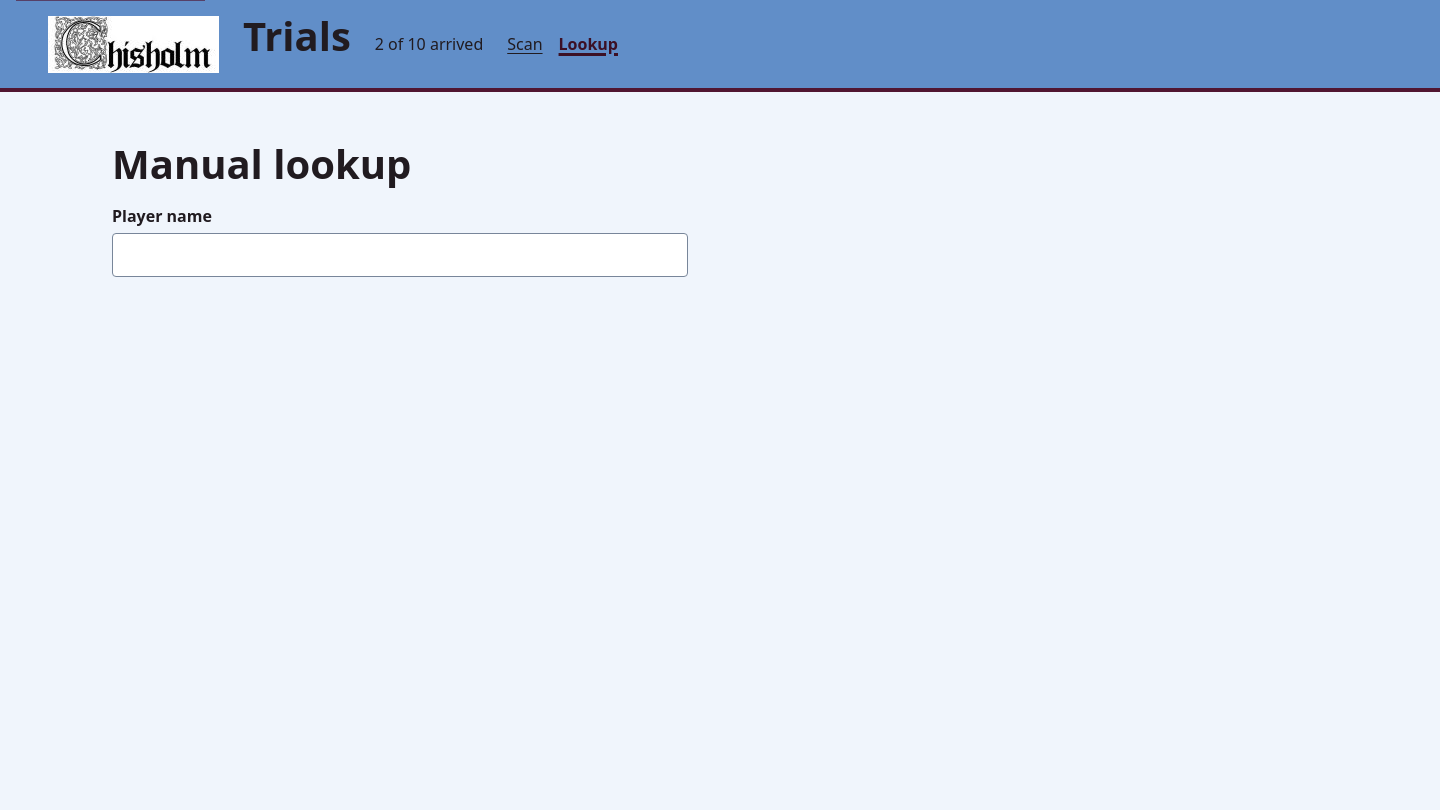
it: keeps lookup usable when undo returns registration-not-found, not session-invalid
Expected: the text "2 of 10 arrived" is shown, [375,32,483,56]
In the field labelled "Player name": (400, 255) [112,233,688,277], type "Player"
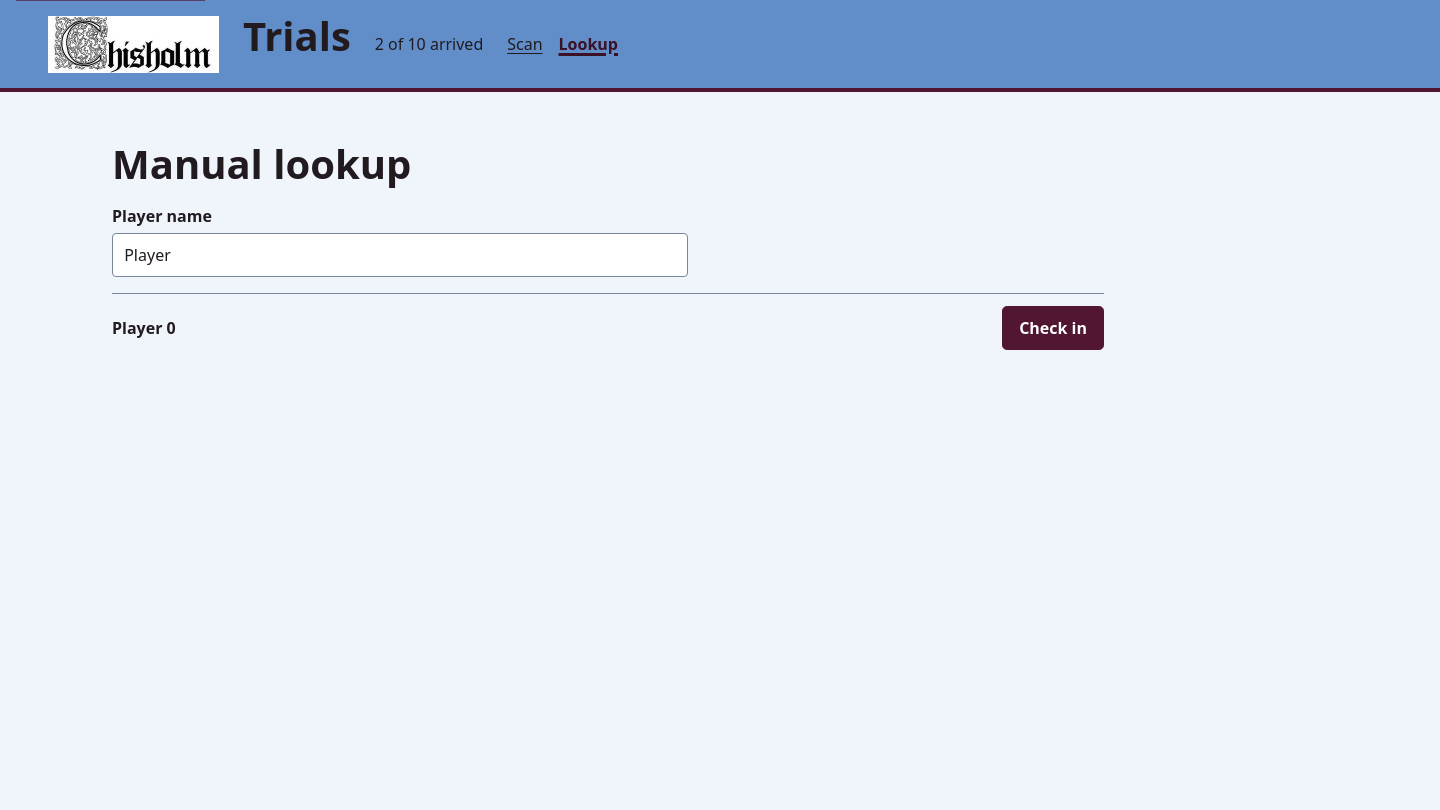
Click the button "Check in": (1053, 328) [1002,306,1104,350]
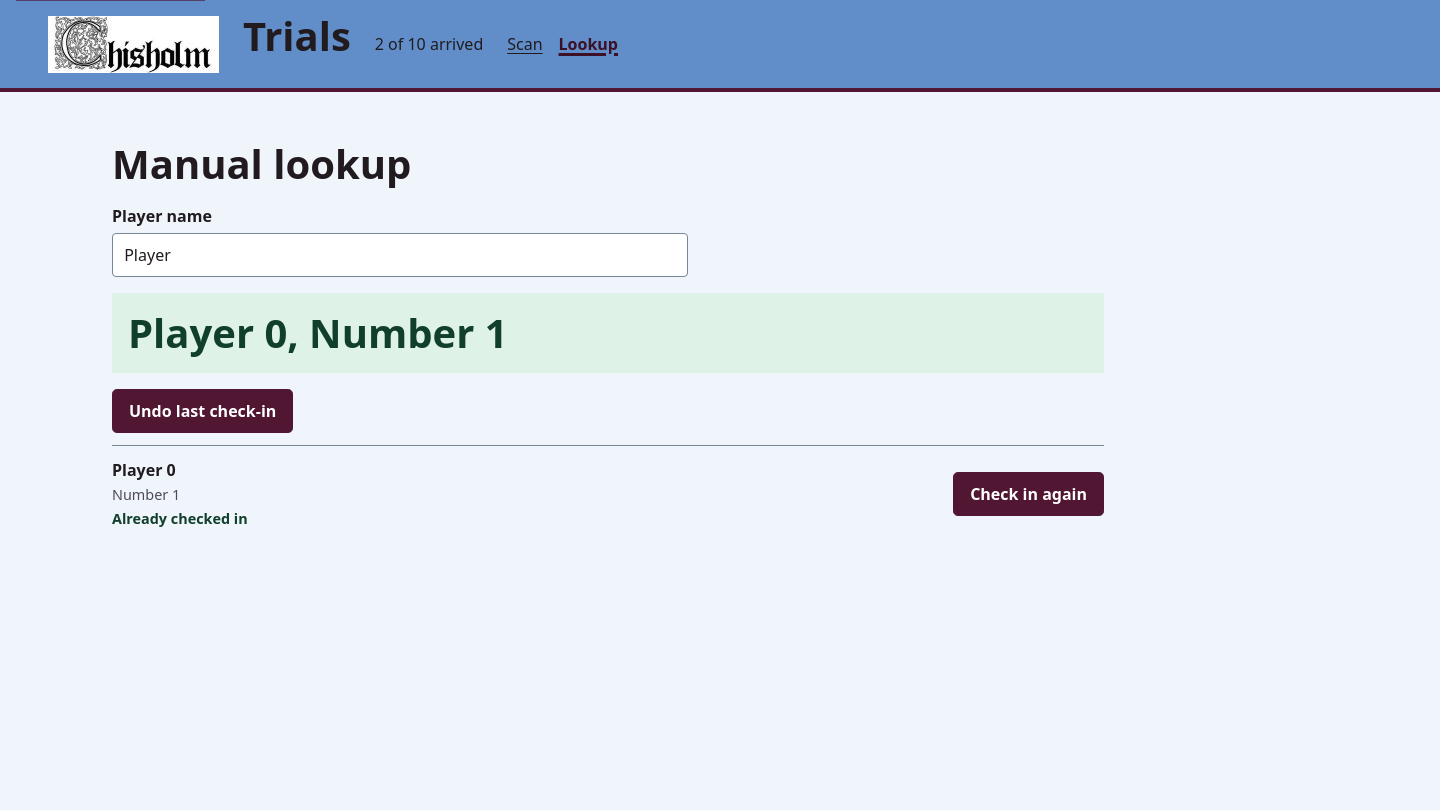
Click the button "Undo last check-in": (203, 411) [112,389,293,433]
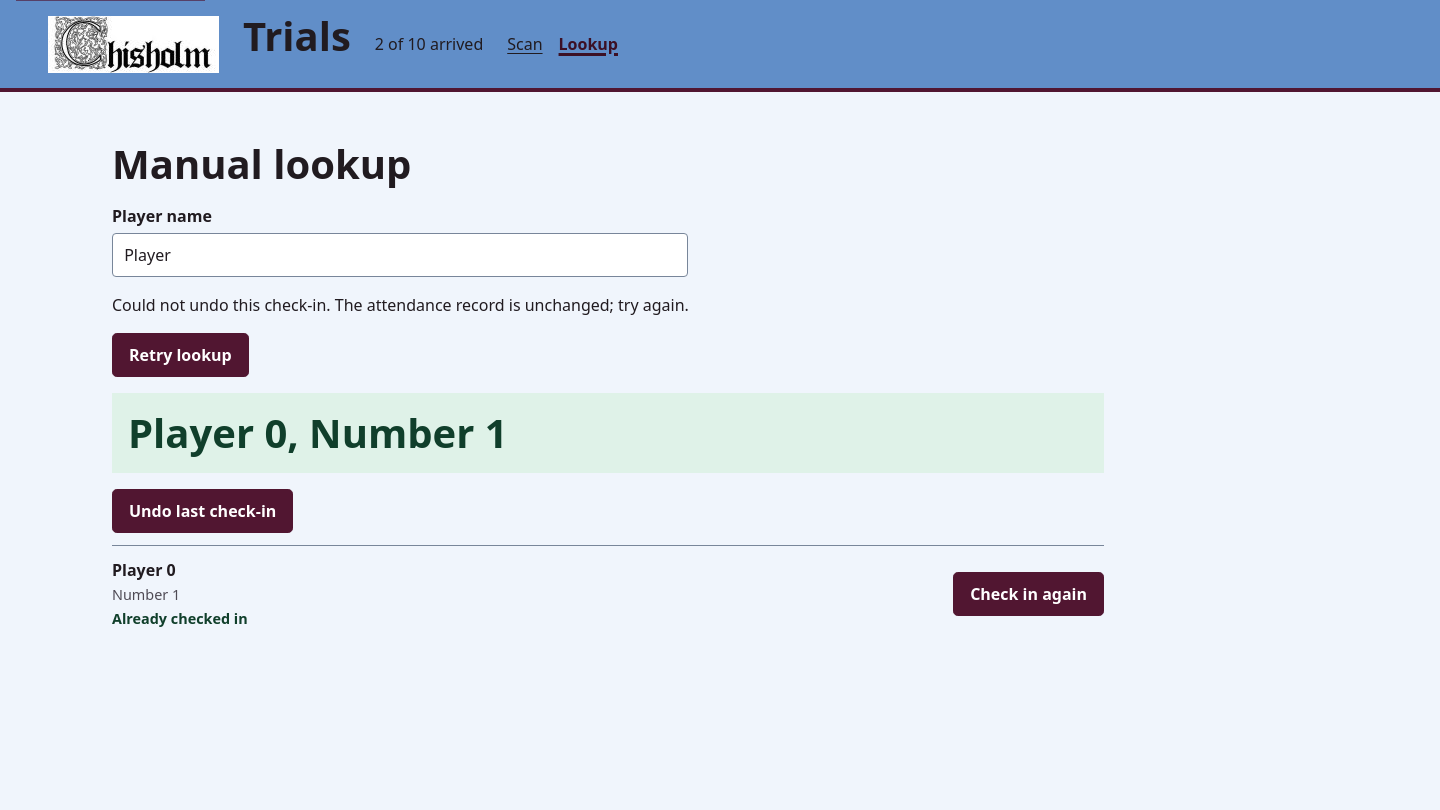
Result: the message "Could not undo this check-in. The attendance record is unchanged; try again." is shown at [112,294,689,316]
